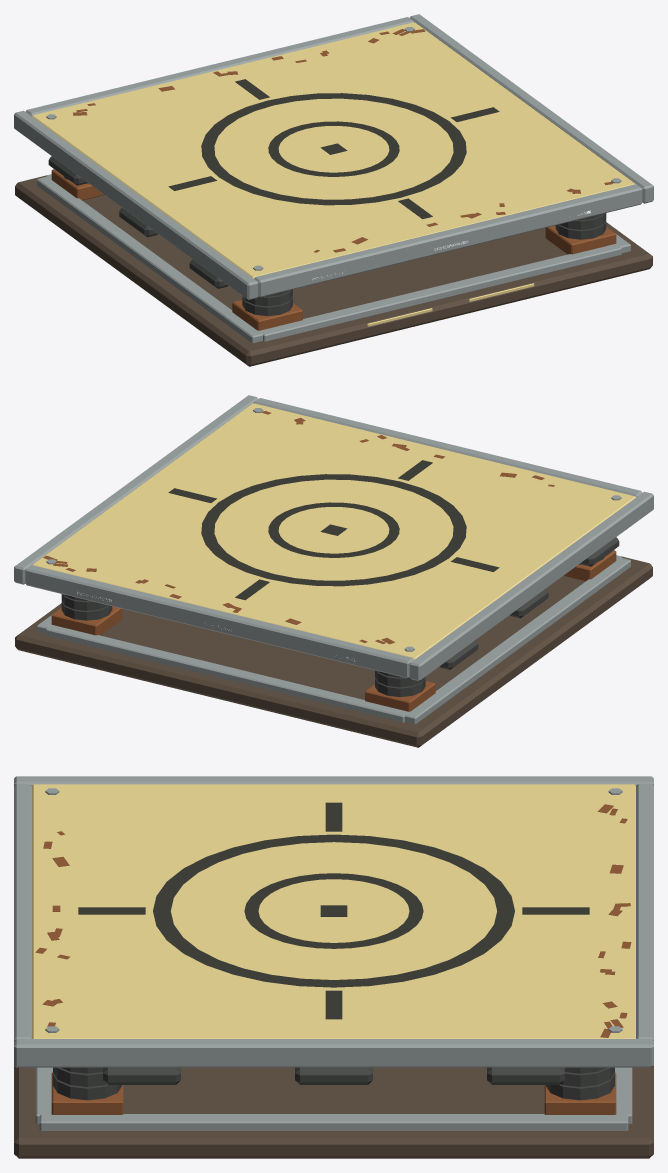
Rendered from LandingPlatform.fbx.
3 renders of one model, top to bottom at view 1: azimuth 30°, elevation 25°; view 2: azimuth 150°, elevation 25°; view 3: azimuth 270°, elevation 25°, orthographic. The views are drawn at different scales.
Visible parts, largest first — view 1: LandingPlatform_StaticMesh; view 2: LandingPlatform_StaticMesh; view 3: LandingPlatform_StaticMesh.
Part boxes in pixels (x1=…): LandingPlatform_StaticMesh: x1=14, y1=14, x2=653, y2=366; LandingPlatform_StaticMesh: x1=14, y1=395, x2=653, y2=747; LandingPlatform_StaticMesh: x1=14, y1=776, x2=653, y2=1158.
Bounding box in the file's own units: 1000 × 200 × 1000.
